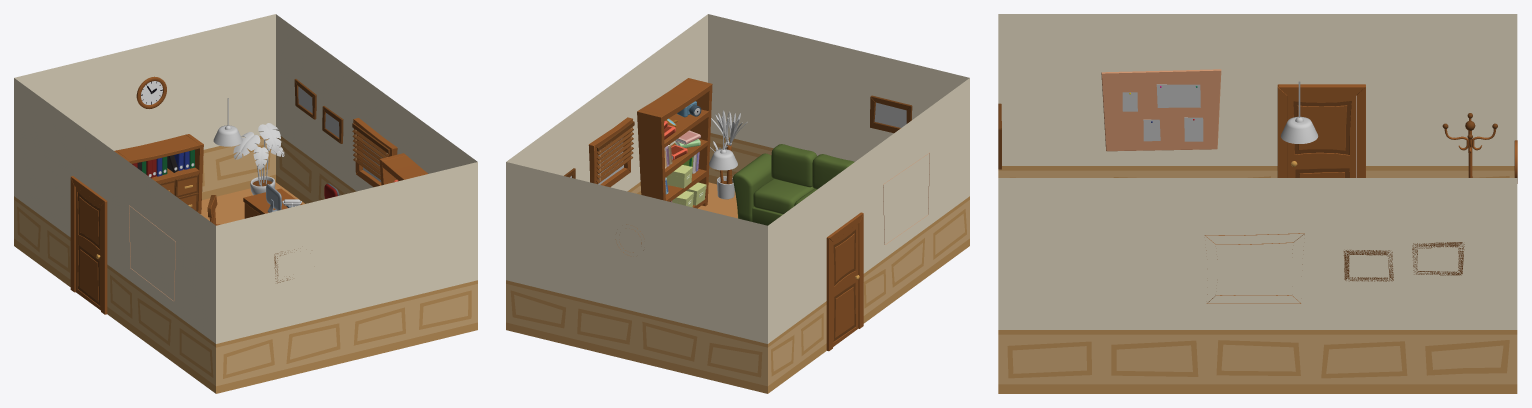
The model's file is Detective_office.fbx.
3 renders of one model, left to right at view 1: azimuth 30°, elevation 25°; view 2: azimuth 150°, elevation 25°; view 3: azimuth 270°, elevation 25°, orthographic. The views are drawn at different scales.
Visible parts, largest first — view 1: Room, File_cabinet, Door, Window, Door_frame, Plant, Bookcase, Clock, Computer_table, Picture2, Picture3, Lamp1; view 2: Room, Bookcase, Couch, Door, Window, Door_frame, Picture1, Plant1, Lamp1; view 3: Room, Desk, Door, Door_frame, Lamp1, Hanger, Picture3, Picture2.
Part boxes in pixels (x1=…): Room: x1=14, y1=14, x2=477, y2=393; File_cabinet: x1=114, y1=134, x2=203, y2=213; Door: x1=75, y1=187, x2=100, y2=310; Window: x1=352, y1=118, x2=397, y2=187; Door_frame: x1=70, y1=176, x2=107, y2=314; Plant: x1=233, y1=123, x2=284, y2=195; Bookcase: x1=379, y1=153, x2=427, y2=185; Clock: x1=136, y1=76, x2=166, y2=108; Computer_table: x1=243, y1=188, x2=302, y2=218; Picture2: x1=294, y1=79, x2=316, y2=119; Picture3: x1=322, y1=106, x2=343, y2=143; Lamp1: x1=213, y1=98, x2=242, y2=146; Room: x1=506, y1=14, x2=969, y2=393; Bookcase: x1=637, y1=78, x2=712, y2=208; Couch: x1=733, y1=144, x2=854, y2=225; Door: x1=833, y1=224, x2=859, y2=346; Window: x1=588, y1=117, x2=634, y2=187; Door_frame: x1=826, y1=212, x2=863, y2=351; Picture1: x1=870, y1=95, x2=912, y2=133; Plant1: x1=710, y1=110, x2=747, y2=199; Lamp1: x1=709, y1=121, x2=737, y2=170; Room: x1=998, y1=14, x2=1517, y2=393; Desk: x1=1101, y1=69, x2=1221, y2=151; Door: x1=1287, y1=95, x2=1355, y2=177; Door_frame: x1=1277, y1=84, x2=1365, y2=177; Lamp1: x1=1280, y1=81, x2=1318, y2=143; Hanger: x1=1442, y1=113, x2=1497, y2=177; Picture3: x1=1343, y1=250, x2=1393, y2=281; Picture2: x1=1412, y1=242, x2=1464, y2=275.
Size of the model in its own units: 530 by 339 by 696.
